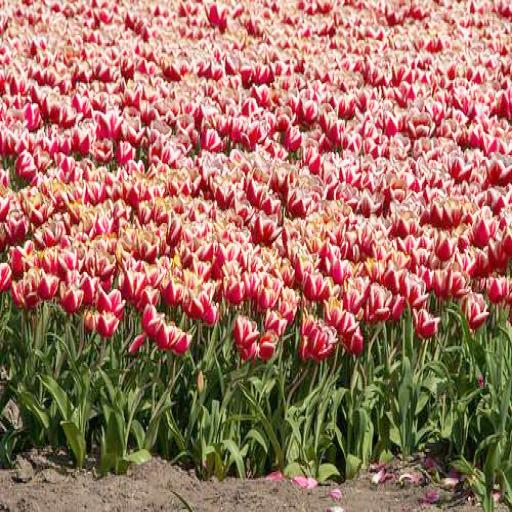tulip: (412, 303, 439, 340), (140, 303, 164, 344), (232, 312, 256, 351)
